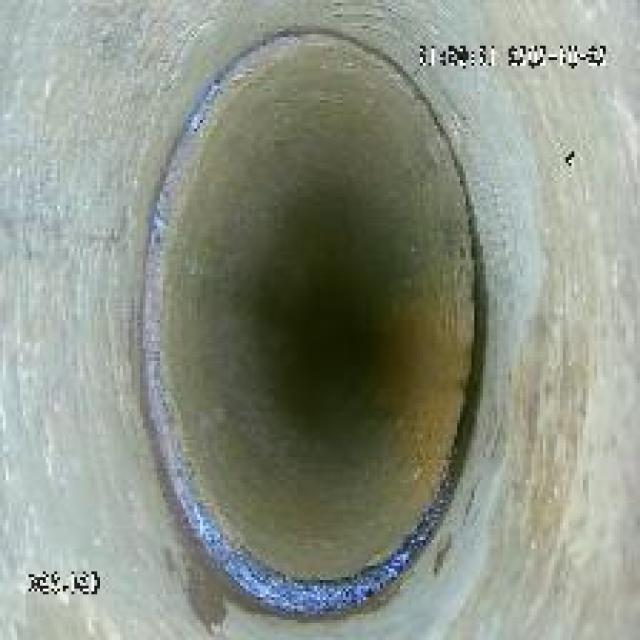joint: (134, 12, 494, 617)
